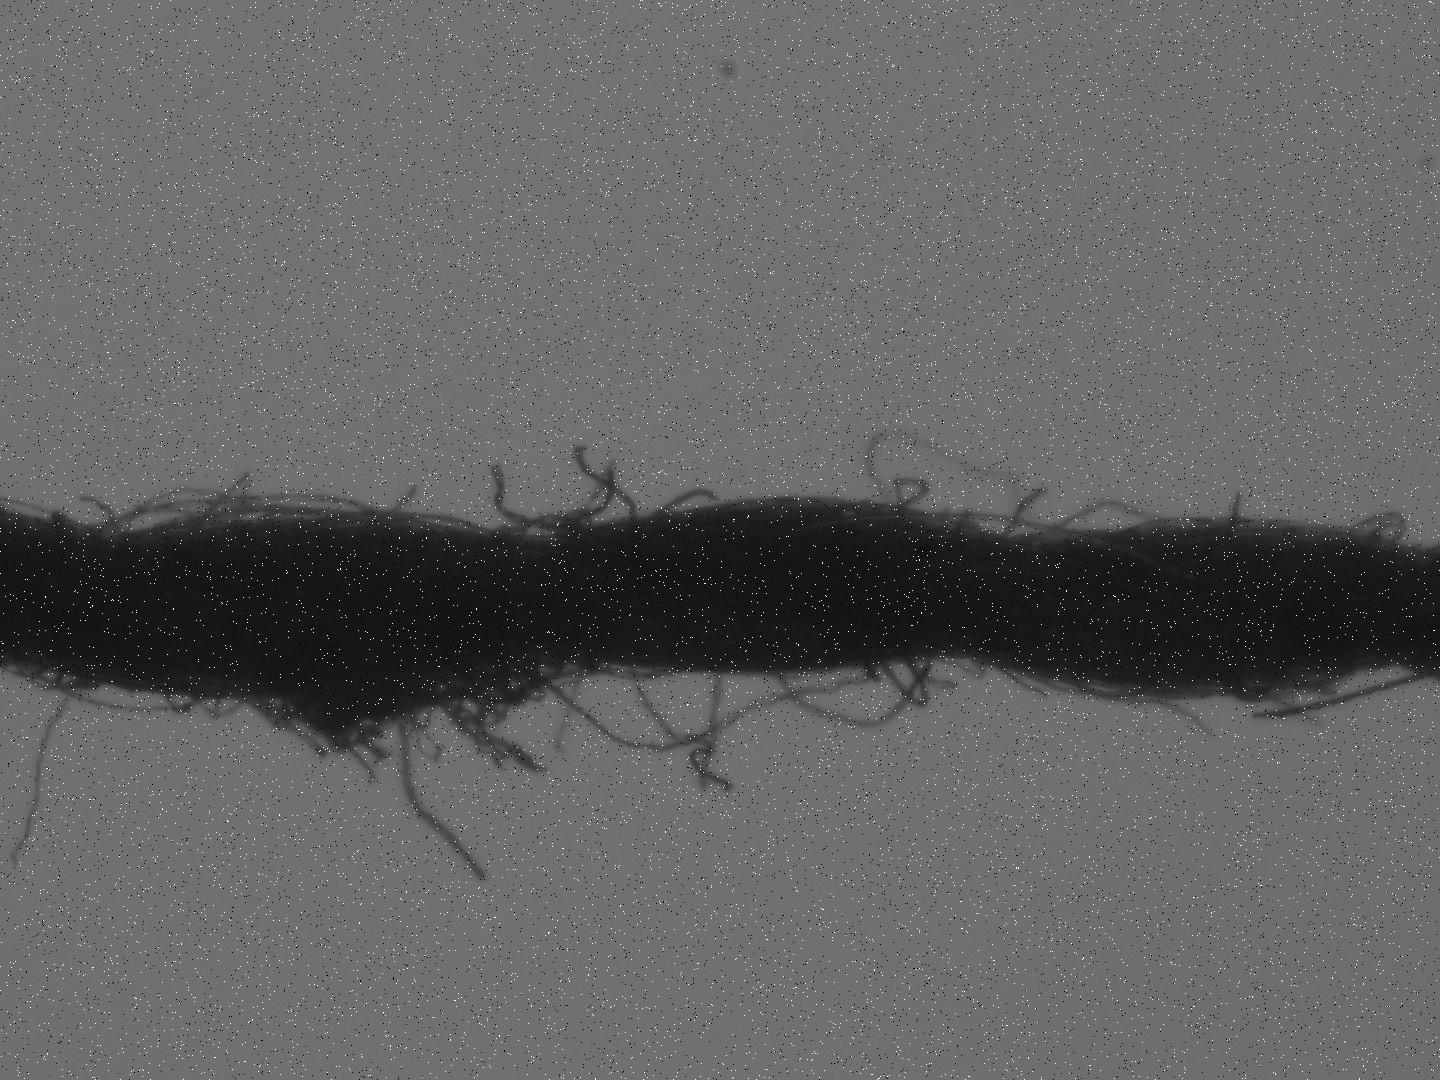loop_fiber: (534, 659, 873, 752), (251, 678, 540, 768), (81, 487, 379, 538), (766, 653, 937, 729), (909, 509, 1124, 546), (45, 675, 194, 716), (1032, 499, 1171, 540), (1223, 675, 1348, 706), (494, 508, 593, 541), (881, 652, 933, 712), (1069, 677, 1159, 709), (1341, 511, 1406, 546), (18, 666, 94, 692)
protruding_fiber: (391, 709, 490, 883), (641, 488, 718, 520), (1212, 489, 1245, 542)
